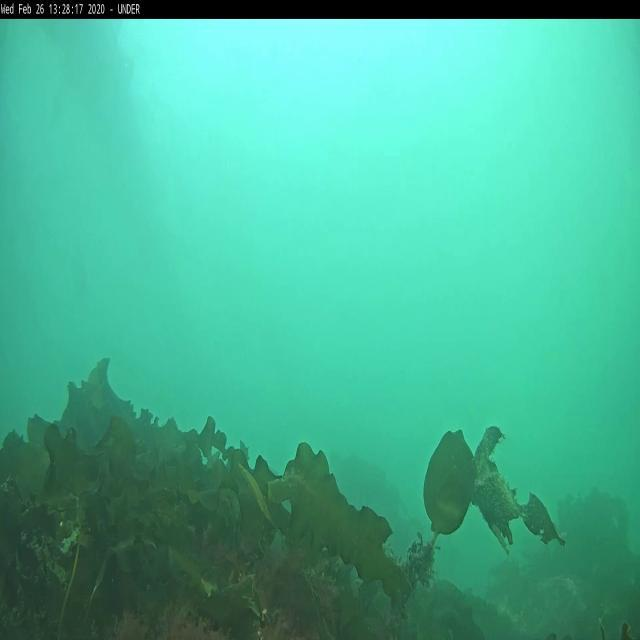fish: (240, 464, 272, 522)
